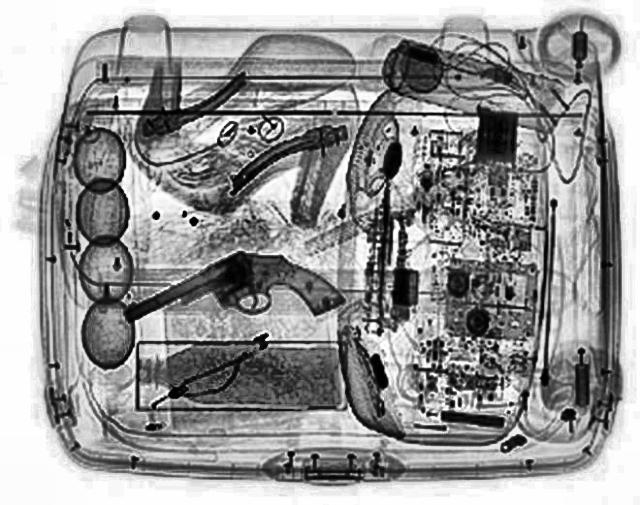Gun: (124, 249, 346, 322)
